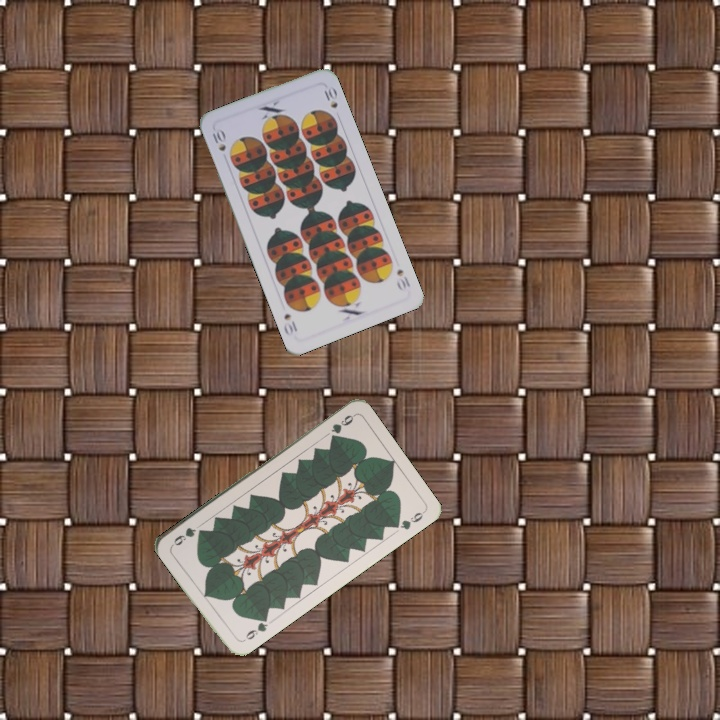G9: (237, 613, 271, 645), (327, 410, 357, 436)
S10: (392, 265, 413, 293), (208, 125, 228, 154)
